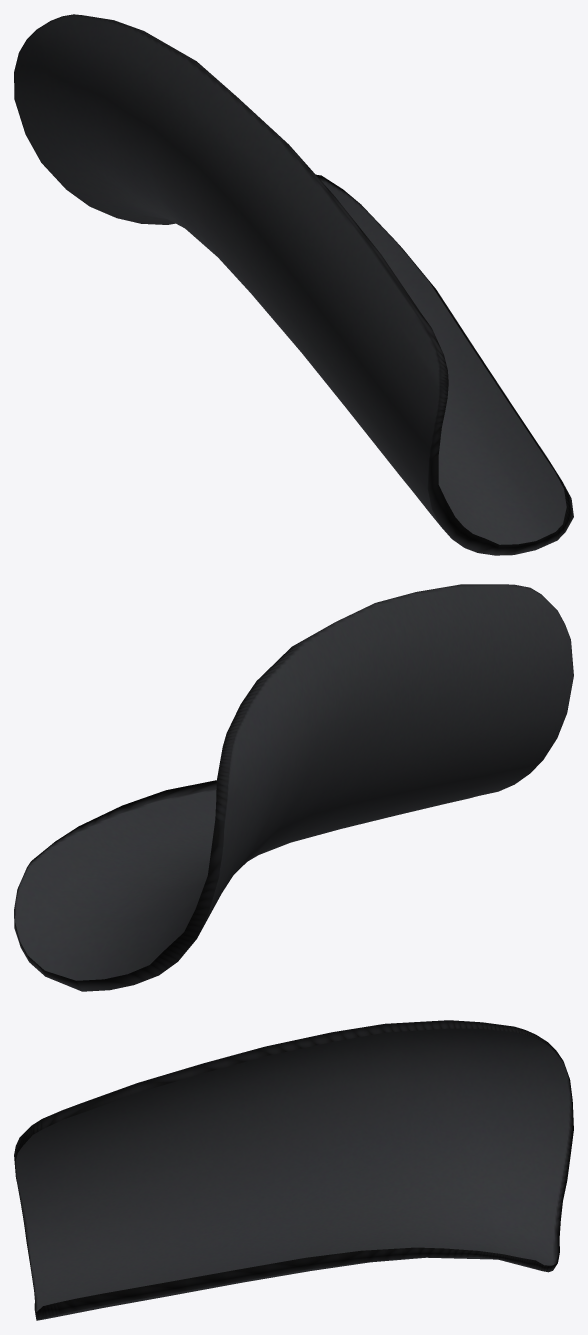
The model's file is gripsqueeze.obj.
The picture shows the model from 3 angles, top to bottom: view 1: azimuth 30°, elevation 25°; view 2: azimuth 150°, elevation 25°; view 3: azimuth 270°, elevation 25°; orthographic projection. The views are drawn at different scales.
Visible parts, largest first — view 1: r_grip_squeeze_005; view 2: r_grip_squeeze_005; view 3: r_grip_squeeze_005.
Part boxes in pixels (x1,y1,x2,y2): r_grip_squeeze_005: (14,14,573,555); r_grip_squeeze_005: (14,584,573,991); r_grip_squeeze_005: (14,1020,573,1320).
Size of the model in its own units: 0.0316 by 0.0414 by 0.083.
1 material, 1 textured.
